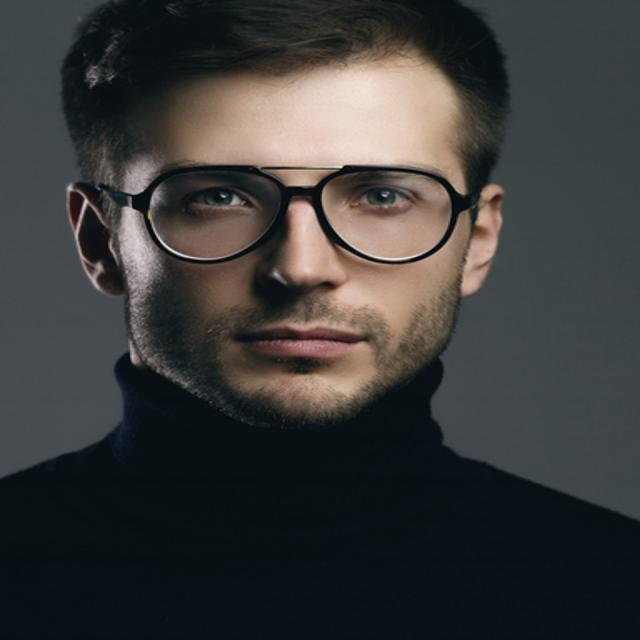Glasses: (70, 155, 506, 269)
